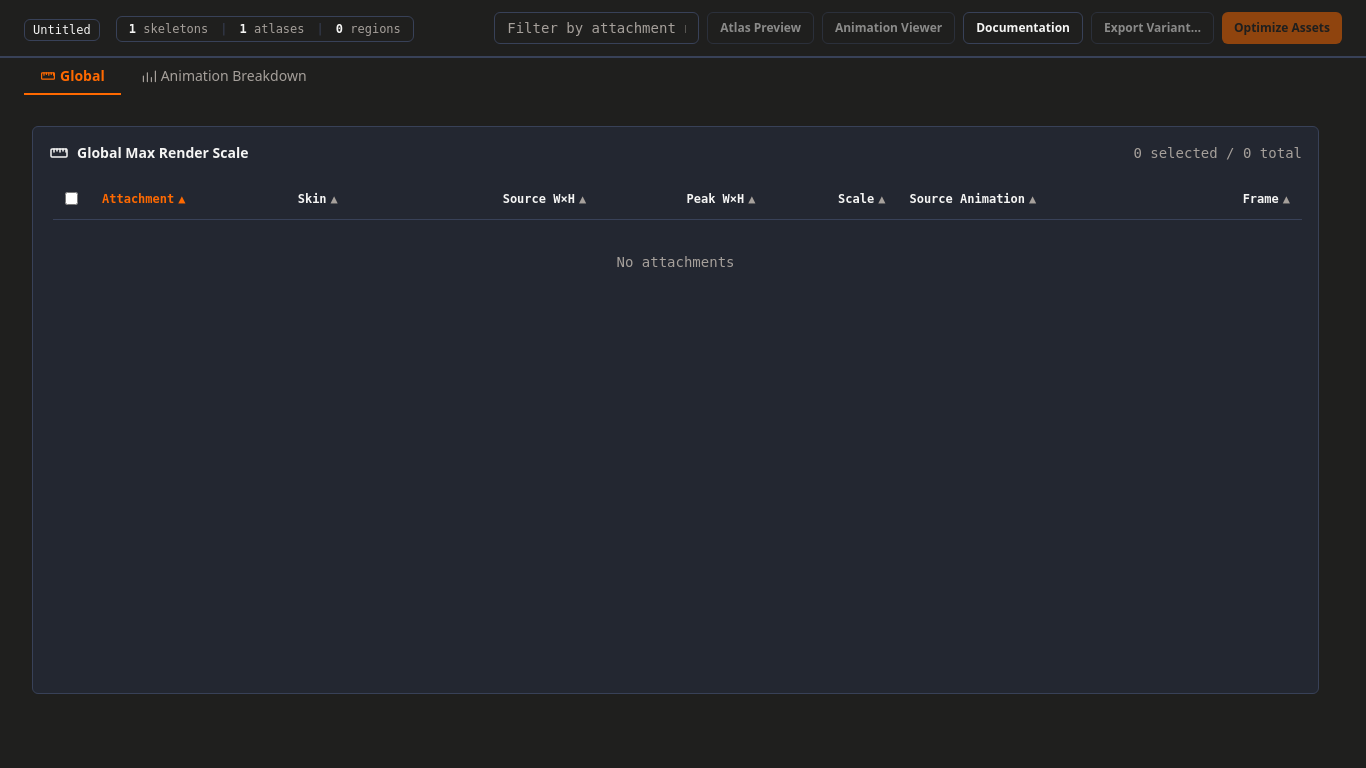
Test: Phase 31 LOAD-05/06/07 — source-toggle disabled state › A1: atlas-source mode + hasImagesDir=false → menu item disabled with verbatim title
Click the element named "Load summary". click: (265, 28)
box: [116,16,414,42]
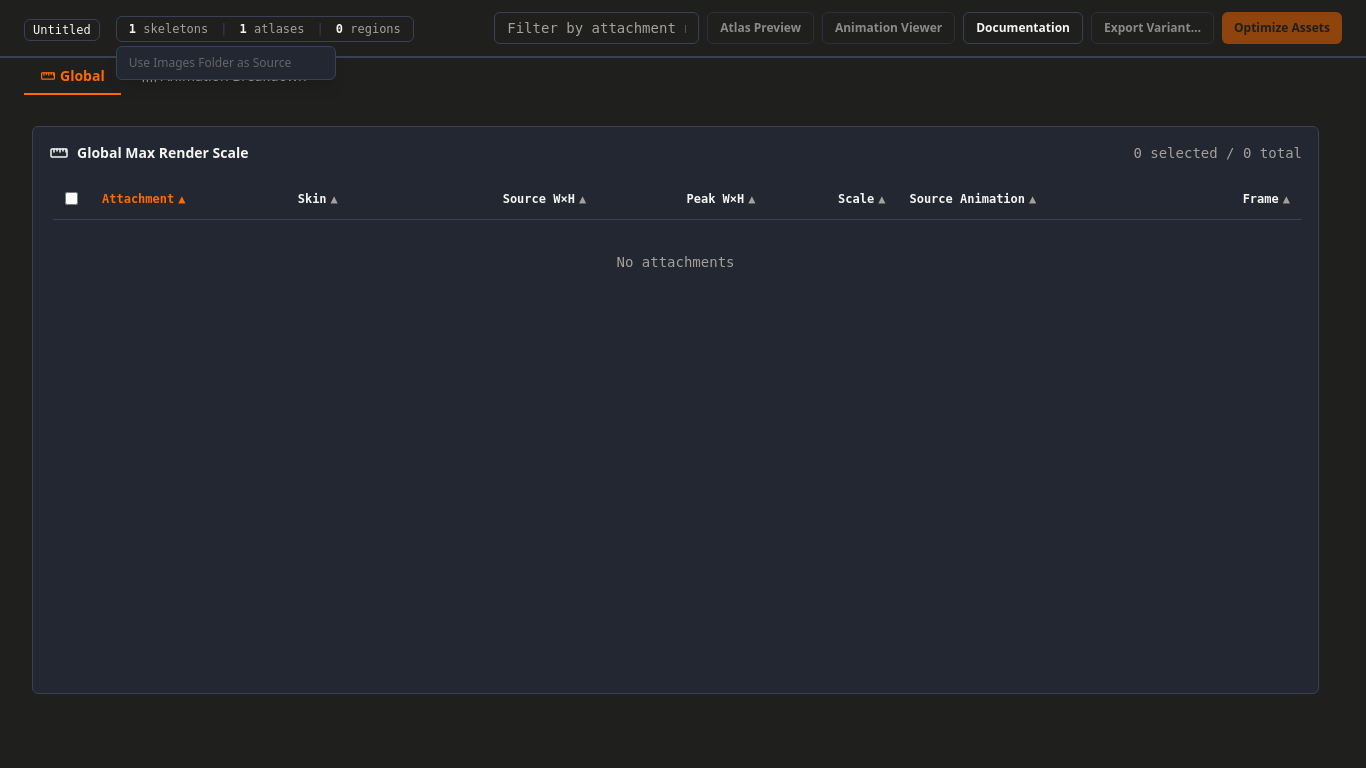
Expected: the button "Use Images Folder as Source" is disabled, [117,46,335,78]
